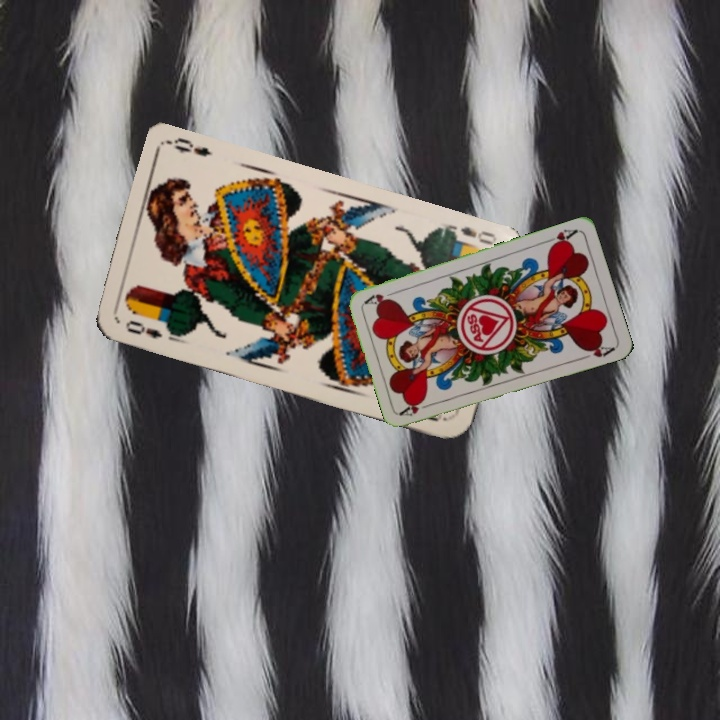EO: (444, 221, 499, 250), (121, 316, 165, 342)
HA: (540, 225, 580, 251), (397, 398, 437, 419)
